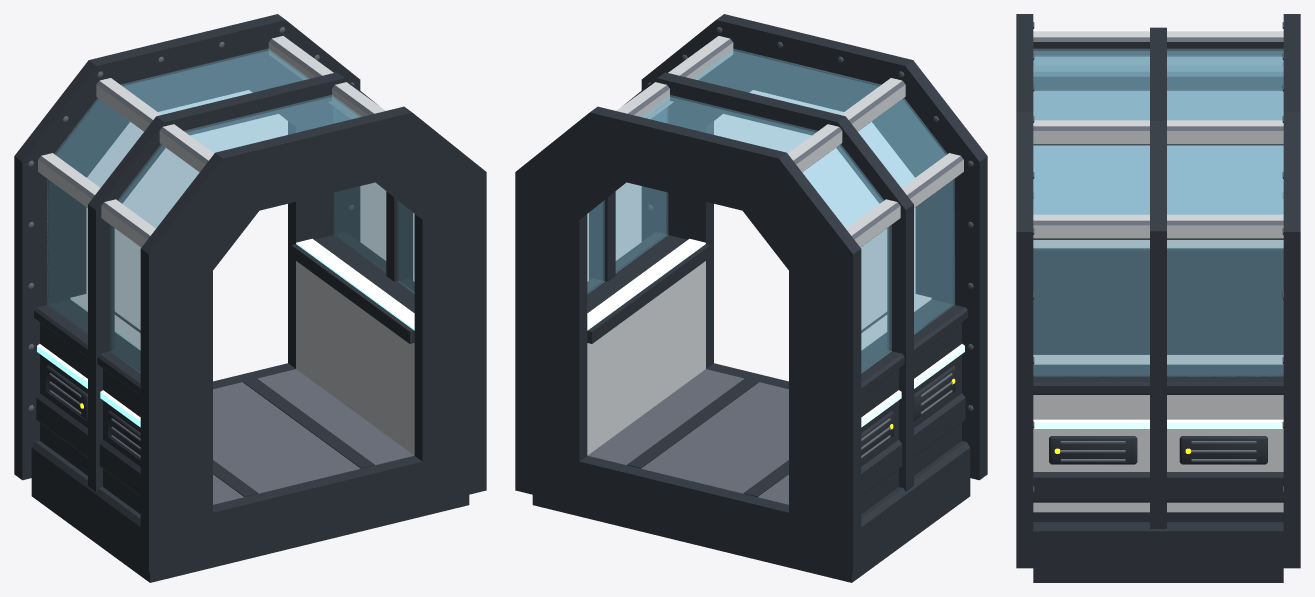
The model's file is Tunnel_Straight.fbx.
3 renders of one model, left to right at view 1: azimuth 30°, elevation 25°; view 2: azimuth 150°, elevation 25°; view 3: azimuth 270°, elevation 25°, orthographic. The views are drawn at different scales.
Visible parts, largest first — view 1: Tunnel_Straight_Body; view 2: Tunnel_Straight_Body; view 3: Tunnel_Straight_Body.
Boxes of the visible parts, x1=… form: Tunnel_Straight_Body: x1=14, y1=14, x2=486, y2=582; Tunnel_Straight_Body: x1=515, y1=14, x2=987, y2=582; Tunnel_Straight_Body: x1=1016, y1=14, x2=1300, y2=582.
Size of the model in its own units: 2.9 by 3.4 by 2.
